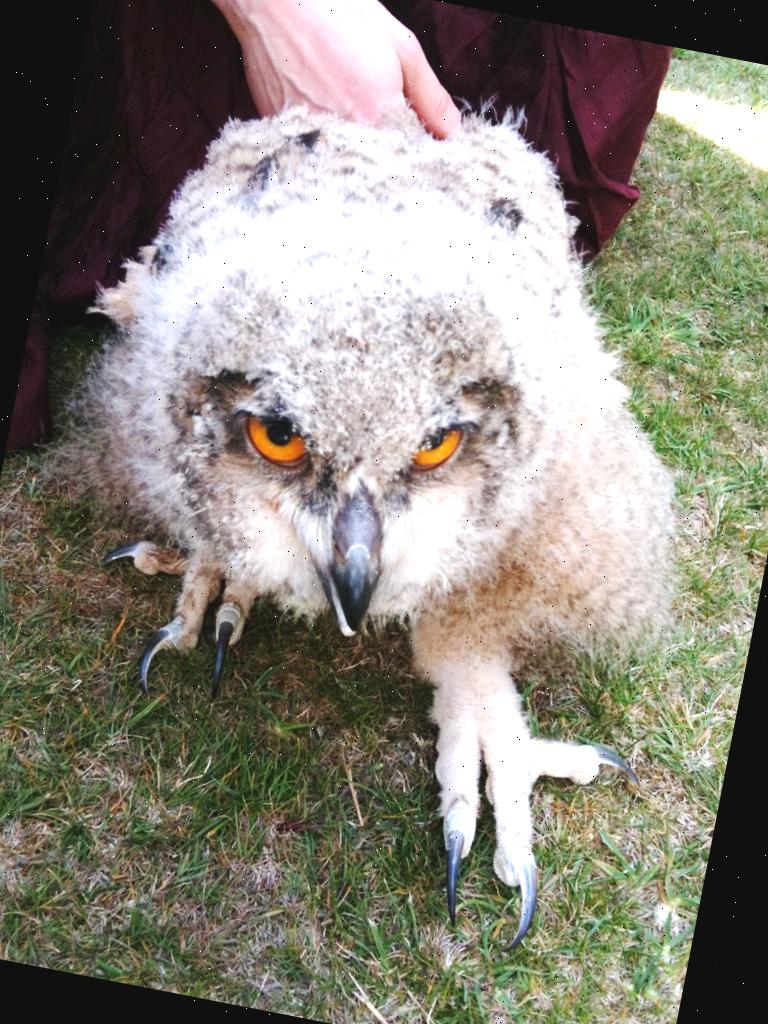Owl: (0, 11, 768, 940)
